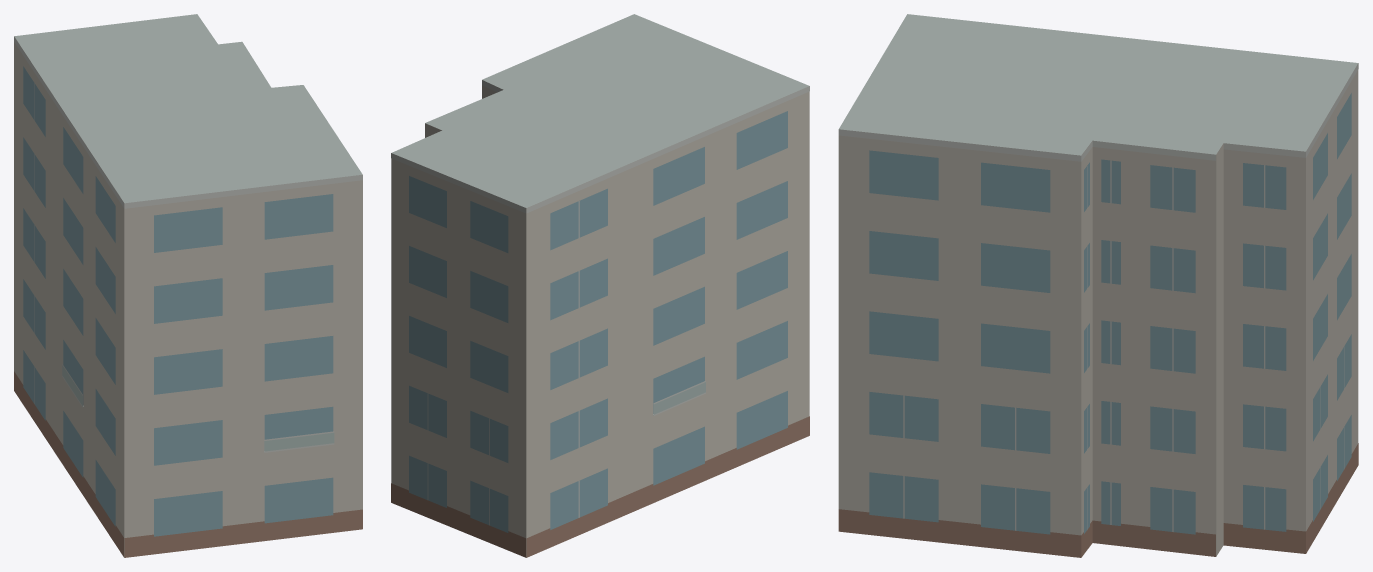
The model's file is survey-upis-32640078.glb.
3 renders of one model, left to right at view 1: azimuth 30°, elevation 25°; view 2: azimuth 150°, elevation 25°; view 3: azimuth 270°, elevation 25°, orthographic. The views are drawn at different scales.
Visible parts, largest first — view 1: survey-upis-32640078.tmp; view 2: survey-upis-32640078.tmp; view 3: survey-upis-32640078.tmp.
Boxes of the visible parts, x1,y1,x2,y2 form: survey-upis-32640078.tmp: [14, 14, 362, 557]; survey-upis-32640078.tmp: [391, 14, 809, 557]; survey-upis-32640078.tmp: [838, 14, 1358, 557].
Size of the model in its own units: 11.9 by 15.75 by 18.45.
